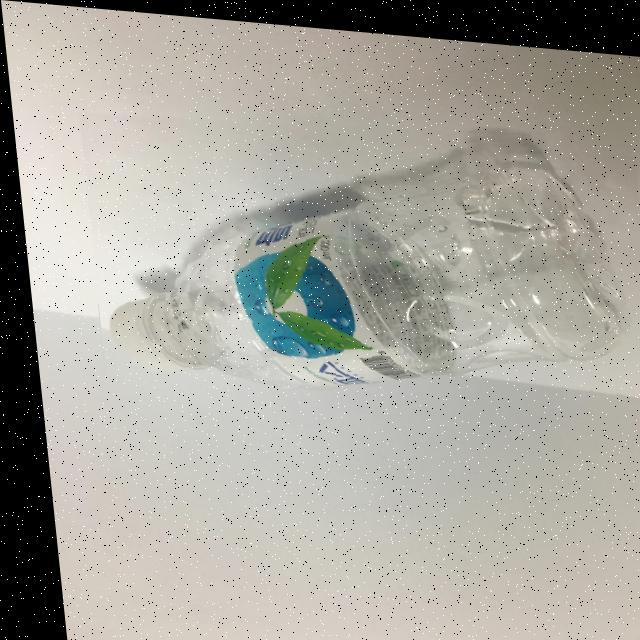litter: (74, 91, 640, 428), (88, 275, 197, 370)
